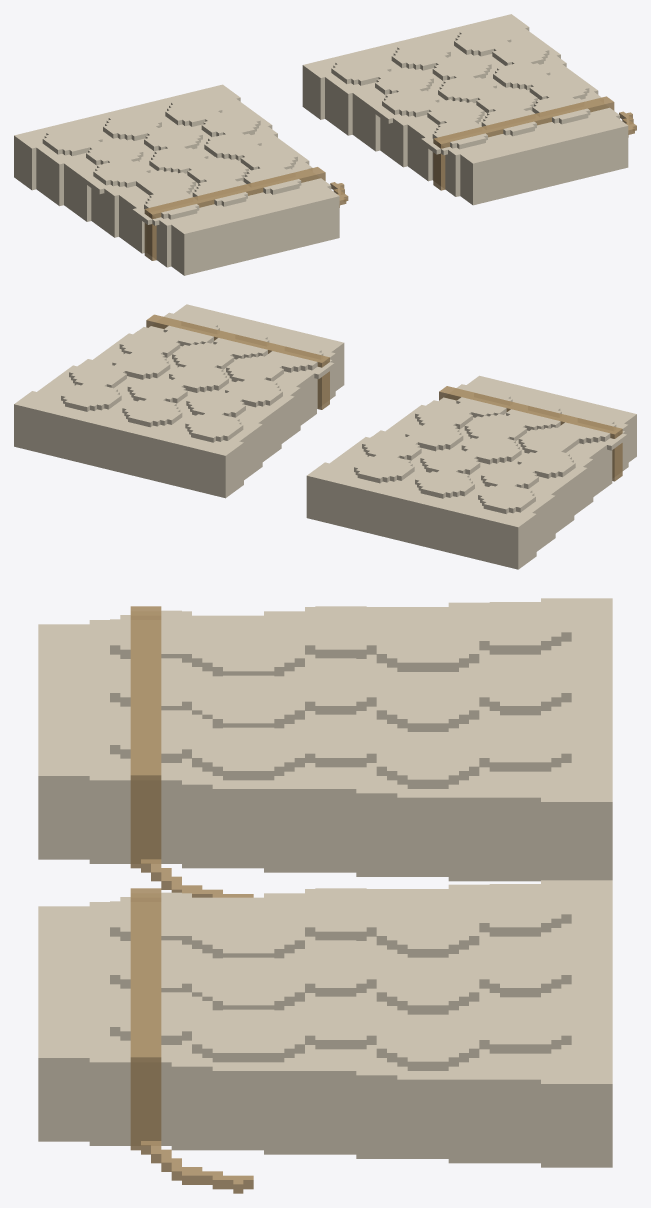
Rendered from leg_warmers_xlf.glb.
3 views of the same model, one above another, from view 1: azimuth 30°, elevation 25°; view 2: azimuth 150°, elevation 25°; view 3: azimuth 270°, elevation 25° (orthographic). The views are drawn at different scales.
Visible parts, largest first — view 1: leg_warmers_xlf:compound; view 2: leg_warmers_xlf:compound; view 3: leg_warmers_xlf:compound.
Part boxes in pixels (box(x1,y1,x2,y2)): leg_warmers_xlf:compound: box(14, 14, 636, 275); leg_warmers_xlf:compound: box(14, 304, 636, 569); leg_warmers_xlf:compound: box(38, 598, 612, 1193).
Bounding box in the file's own units: 0.472 × 0.04 × 0.224.
